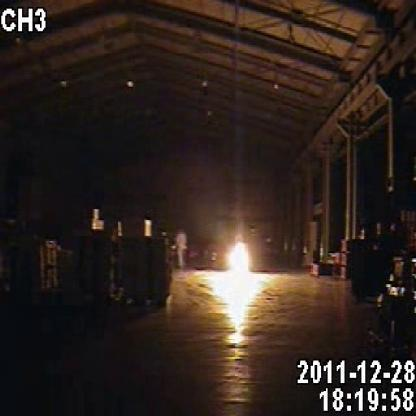fire: (189, 208, 283, 362)
